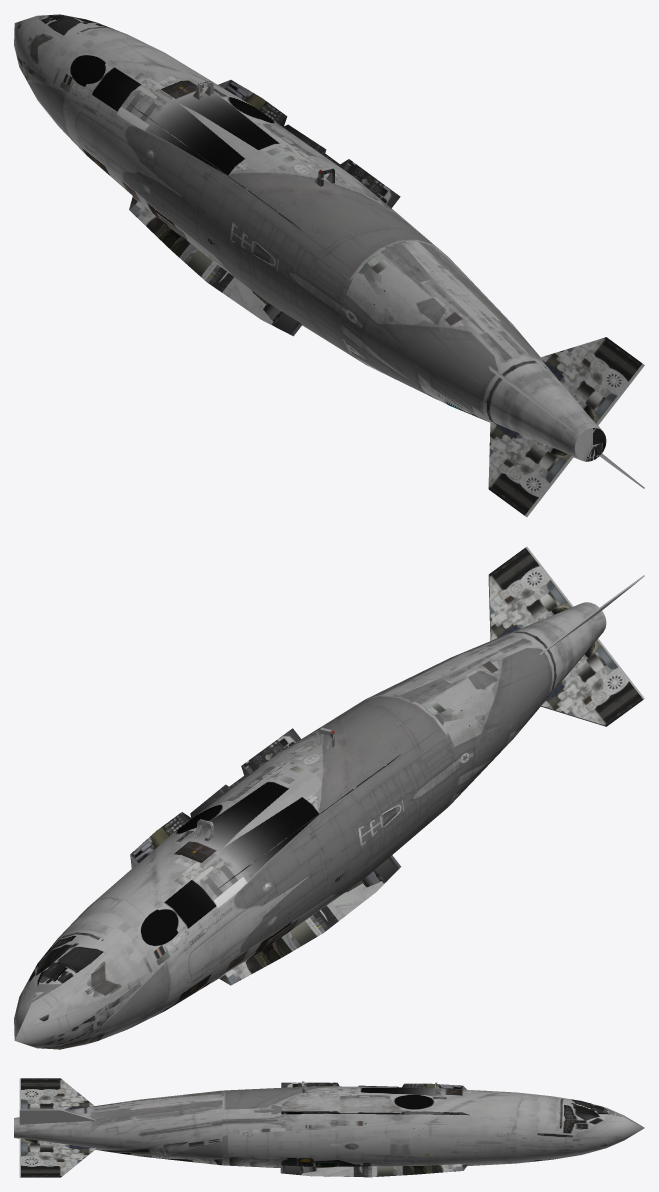
The model's file is GBU-31.obj.
The picture shows the model from 3 angles, top to bottom: view 1: azimuth 30°, elevation 25°; view 2: azimuth 150°, elevation 25°; view 3: azimuth 270°, elevation 25°; orthographic projection. The views are drawn at different scales.
Parts seen in each view (by area): view 1: JDAM; view 2: JDAM; view 3: JDAM.
Boxes of the visible parts, box(x1,y1,x2,y2) form: JDAM: box(14, 14, 644, 517); JDAM: box(14, 546, 644, 1049); JDAM: box(14, 1078, 644, 1177).
Size of the model in its own units: 0.5165 by 0.5642 by 3.87.
